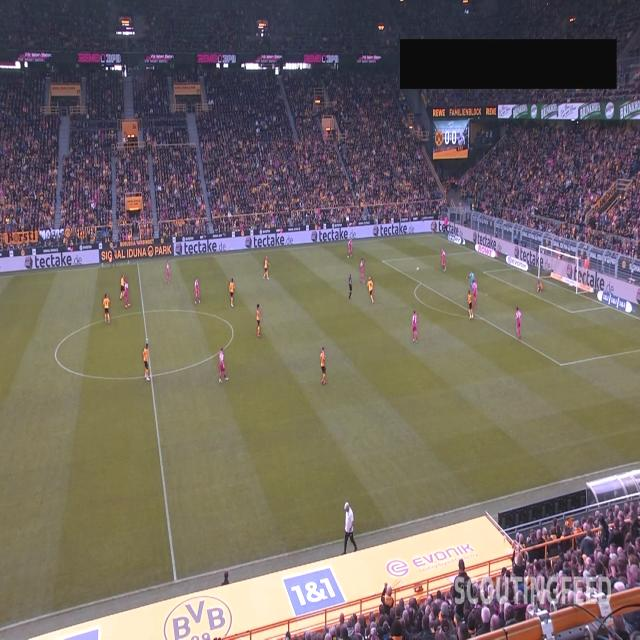ball: (414, 264, 420, 275)
f_player: (141, 344, 151, 382), (318, 350, 328, 386), (218, 351, 228, 383), (412, 310, 422, 342), (256, 302, 264, 337), (102, 294, 111, 324), (346, 235, 356, 262), (515, 307, 523, 339), (229, 280, 237, 310), (466, 290, 474, 320), (163, 258, 172, 284), (125, 276, 132, 308), (368, 278, 376, 304), (194, 280, 202, 306), (472, 280, 479, 308), (440, 250, 448, 274), (534, 278, 544, 296), (466, 269, 474, 289), (361, 258, 367, 284), (264, 257, 270, 281), (121, 272, 125, 298)
umpire: (110, 244, 116, 272), (347, 274, 353, 298)
